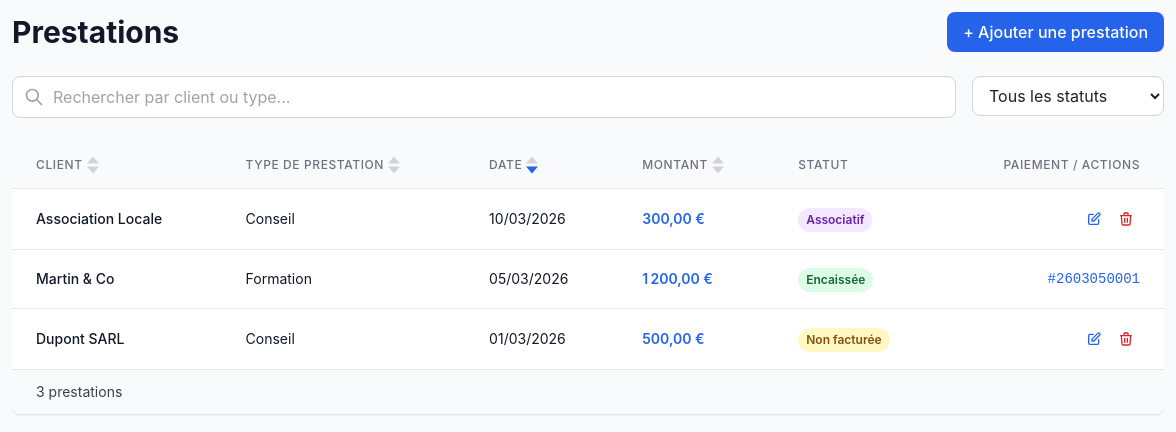
Scenario: Prestations page › filters prestations when searching by client name
Type "Dupont" into the field with placeholder "Rechercher par client ou type...".
click(484, 97); type("Dupont")  # box [12,76,956,118]
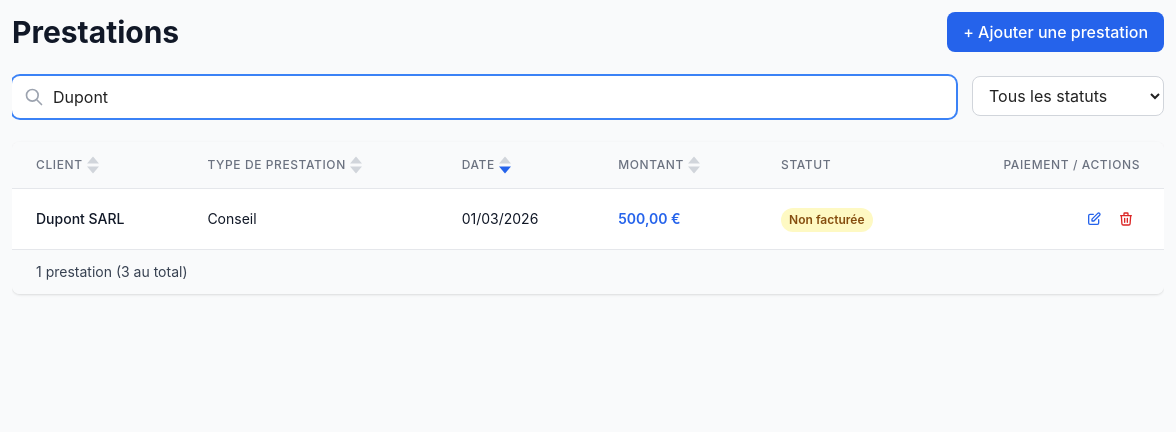
expect the text "Martin & Co" is gone: met
expect the text "Association Locale" is gone: met
